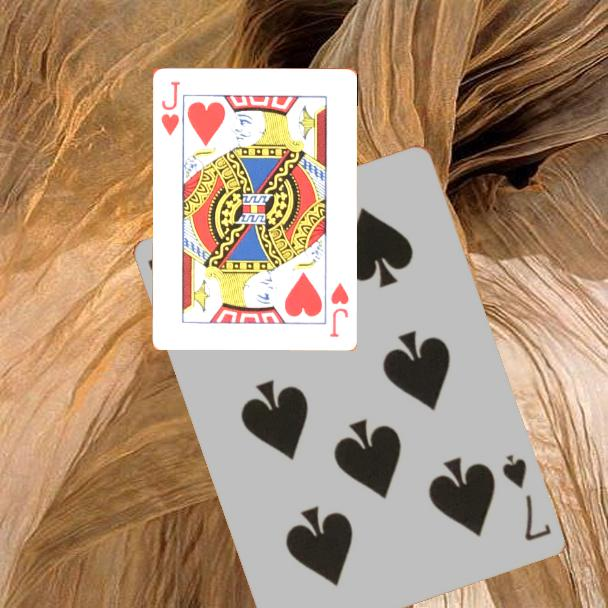h11: (157, 78, 183, 138), (326, 279, 351, 339)
s07: (499, 451, 555, 544)
